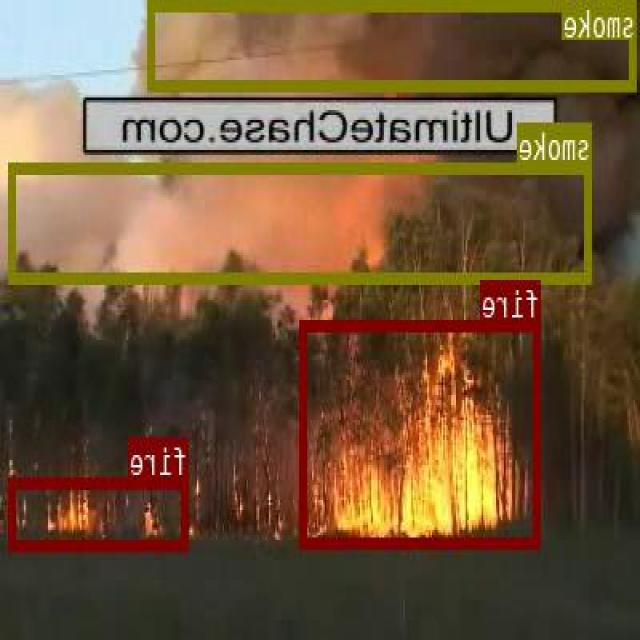fire: (302, 318, 542, 545), (11, 476, 190, 549)
smoke: (10, 160, 592, 281), (151, 0, 638, 90)
